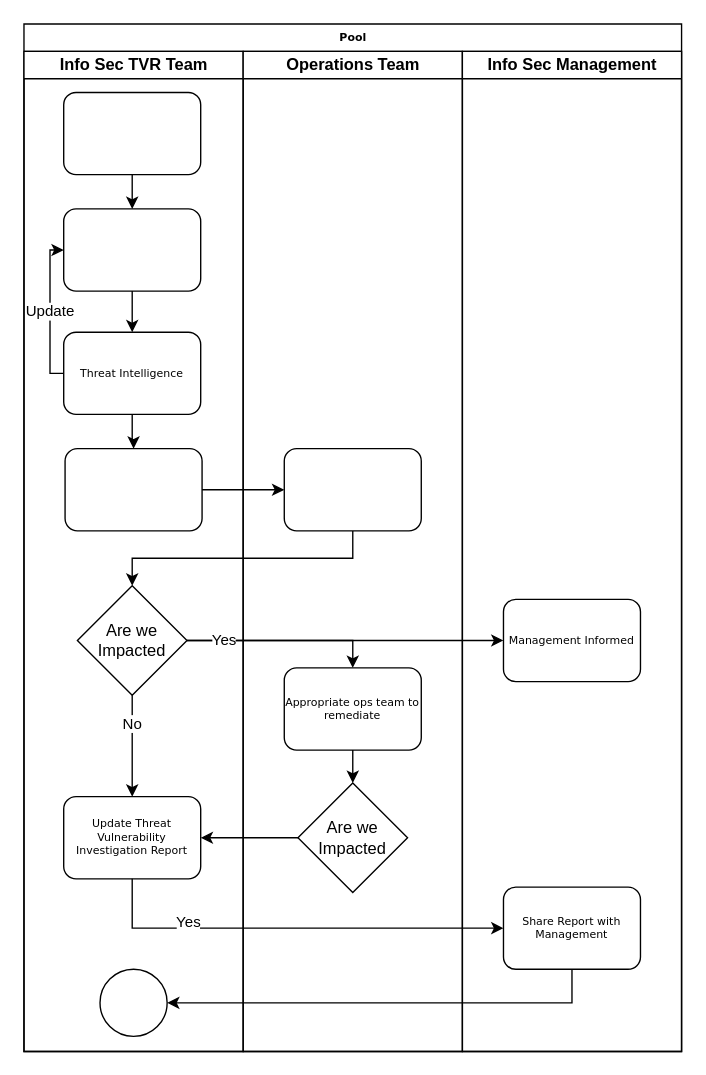
Some shapes in this 706 by 1075 pixel diagram are drawn without their labels. The shapes that lost their labels are listed below. From the top down, each one's centre as x and y in pixels, then its label:
At point (131, 133): "New Threat/Vulnerability".
At point (131, 249): "Create Threat Vulnerability Investigation report".
At point (133, 489): "Investigate".
At point (352, 489): "Engage Appropriate Ops Teams".
At point (133, 1002): "Stop".
